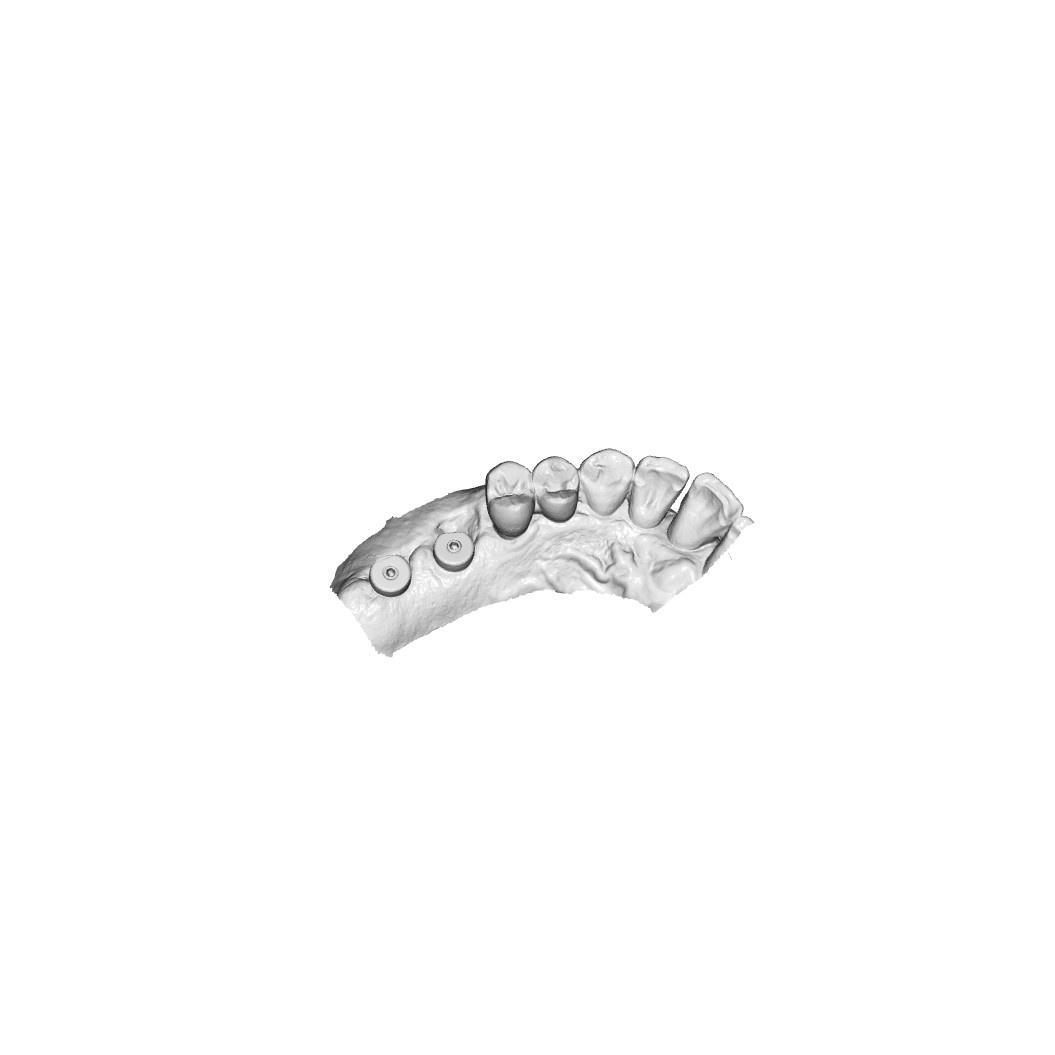canine: (577, 449, 635, 517)
implant: (373, 552, 412, 601), (437, 531, 475, 574)
incisor: (670, 472, 748, 542), (630, 455, 683, 525)
premolar: (487, 456, 539, 536), (533, 454, 580, 525)
